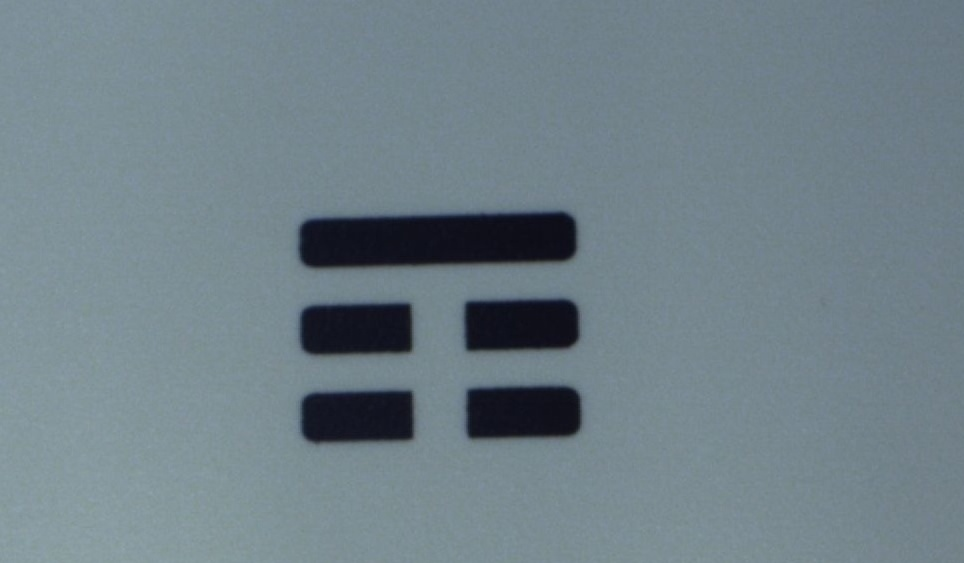BV_F6600PTIM: (279, 199, 593, 443)
